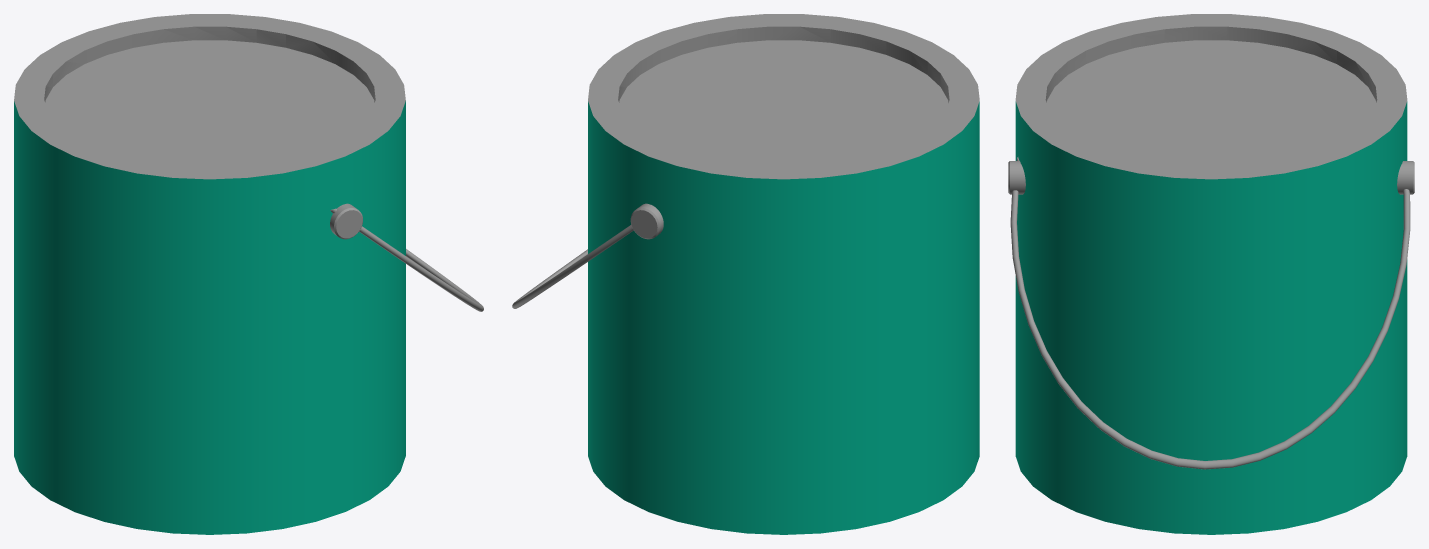
Rendered from PAINTCANHHW.fbx.
3 renders of one model, left to right at view 1: azimuth 30°, elevation 25°; view 2: azimuth 150°, elevation 25°; view 3: azimuth 270°, elevation 25°, orthographic.
Parts seen in each view (by area): view 1: pCylinder8; view 2: pCylinder8; view 3: pCylinder8.
Boxes of the visible parts, <box> form: pCylinder8: <box>14,14,483,534</box>; pCylinder8: <box>512,14,979,534</box>; pCylinder8: <box>1008,14,1414,534</box>.
Size of the model in its own units: 8.69 by 7.1 by 7.35.
